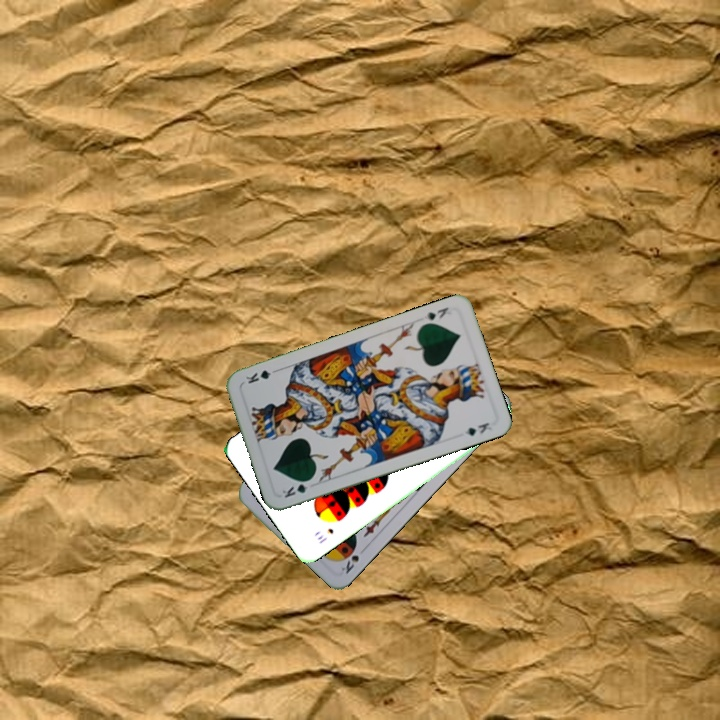GK: (278, 475, 315, 501), (420, 303, 451, 323)
S10: (313, 524, 336, 546)
SK: (337, 551, 362, 577)
